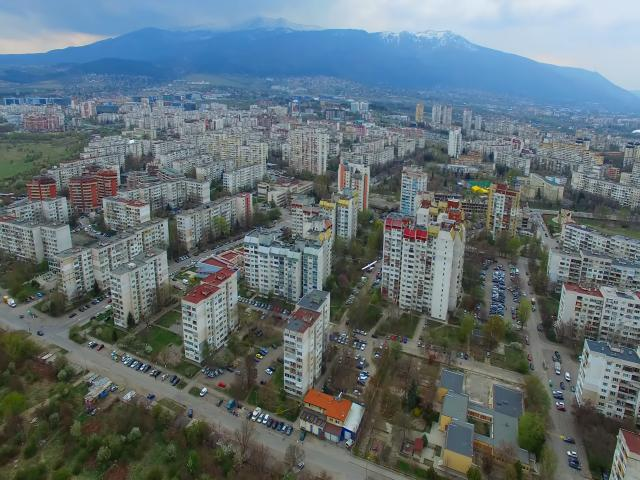plane: (361, 261, 377, 271)
